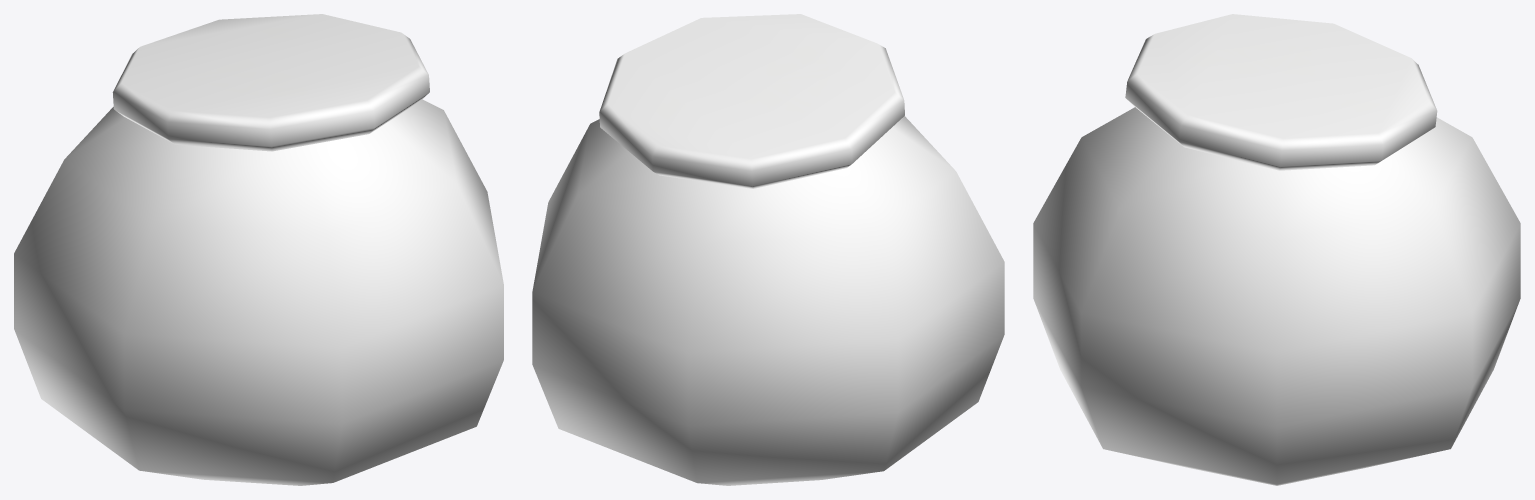
Rendered from Yellow_ver1.fbx.
3 views of the same model, side by side, from view 1: azimuth 30°, elevation 25°; view 2: azimuth 150°, elevation 25°; view 3: azimuth 270°, elevation 25° (orthographic). The views are drawn at different scales.
Parts seen in each view (by area): view 1: Yellow; view 2: Yellow; view 3: Yellow.
Part boxes in pixels (x1,y1,x2,y2): Yellow: (14,14,503,485); Yellow: (532,14,1004,485); Yellow: (1033,14,1520,485).
Bounding box in the file's own units: 32.65 × 30.02 × 33.49.
1 material, 1 textured.
